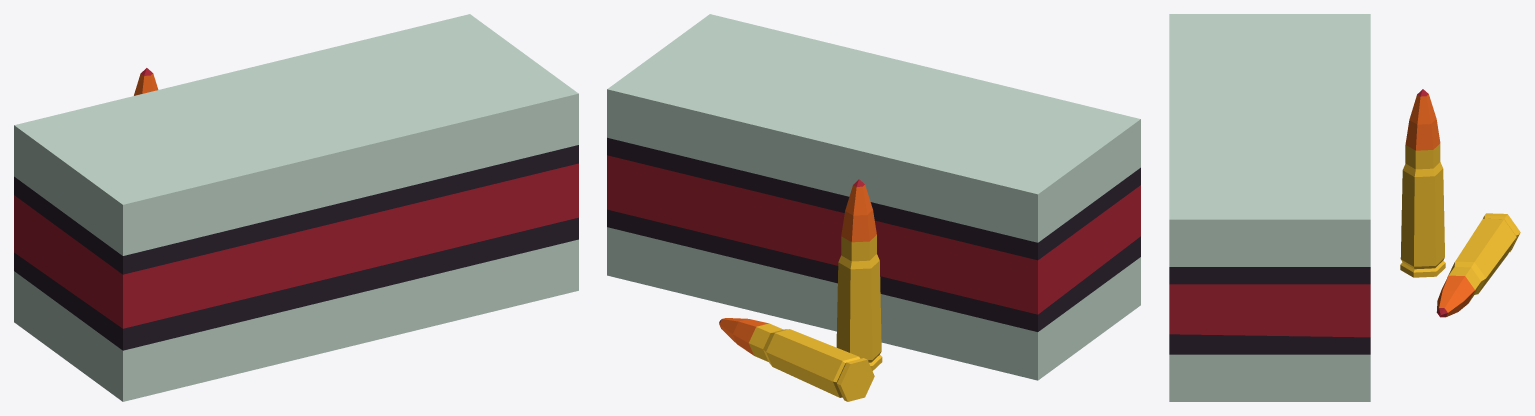
Rendered from 762x39_Rifle_Ammo.fbx.
3 views of the same model, side by side, from view 1: azimuth 30°, elevation 25°; view 2: azimuth 150°, elevation 25°; view 3: azimuth 270°, elevation 25° (orthographic). The views are drawn at different scales.
Parts seen in each view (by area): view 1: 762x39_Rifle_Ammo; view 2: 762x39_Rifle_Ammo; view 3: 762x39_Rifle_Ammo.
Part boxes in pixels (bbox=[...]): 762x39_Rifle_Ammo: bbox=[14, 14, 578, 401]; 762x39_Rifle_Ammo: bbox=[607, 14, 1140, 401]; 762x39_Rifle_Ammo: bbox=[1169, 14, 1520, 401].
Bounding box in the file's own units: 12.1 × 5 × 8.73.
